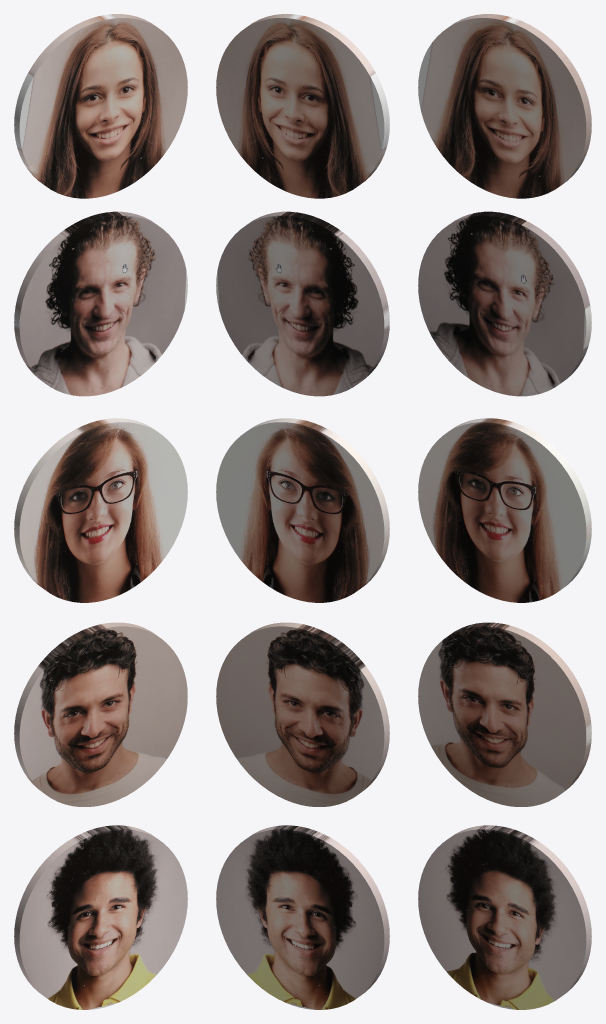
File: Corkwall_People.obj
The picture shows the model from 3 angles, left to right: view 1: azimuth 30°, elevation 25°; view 2: azimuth 150°, elevation 25°; view 3: azimuth 330°, elevation 25°; orthographic projection.
Bounding box in the file's own units: 0.0757 × 0.4245 × 0.00421.
